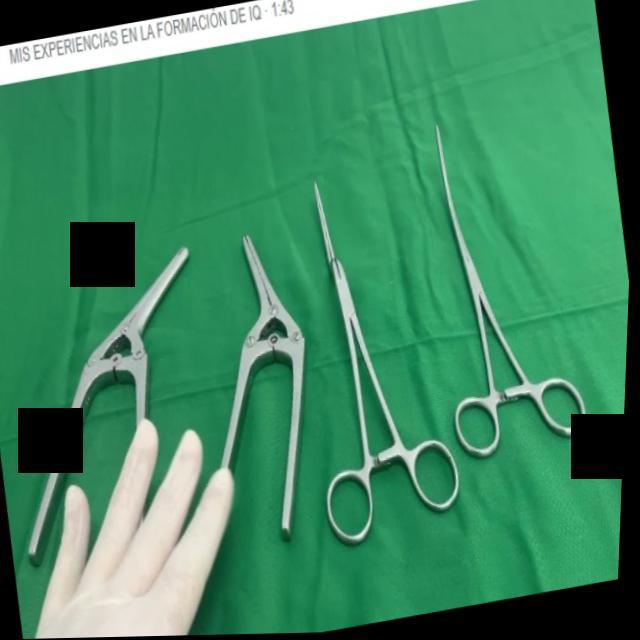Doyel Instestinal Forceps: (410, 97, 604, 472)
